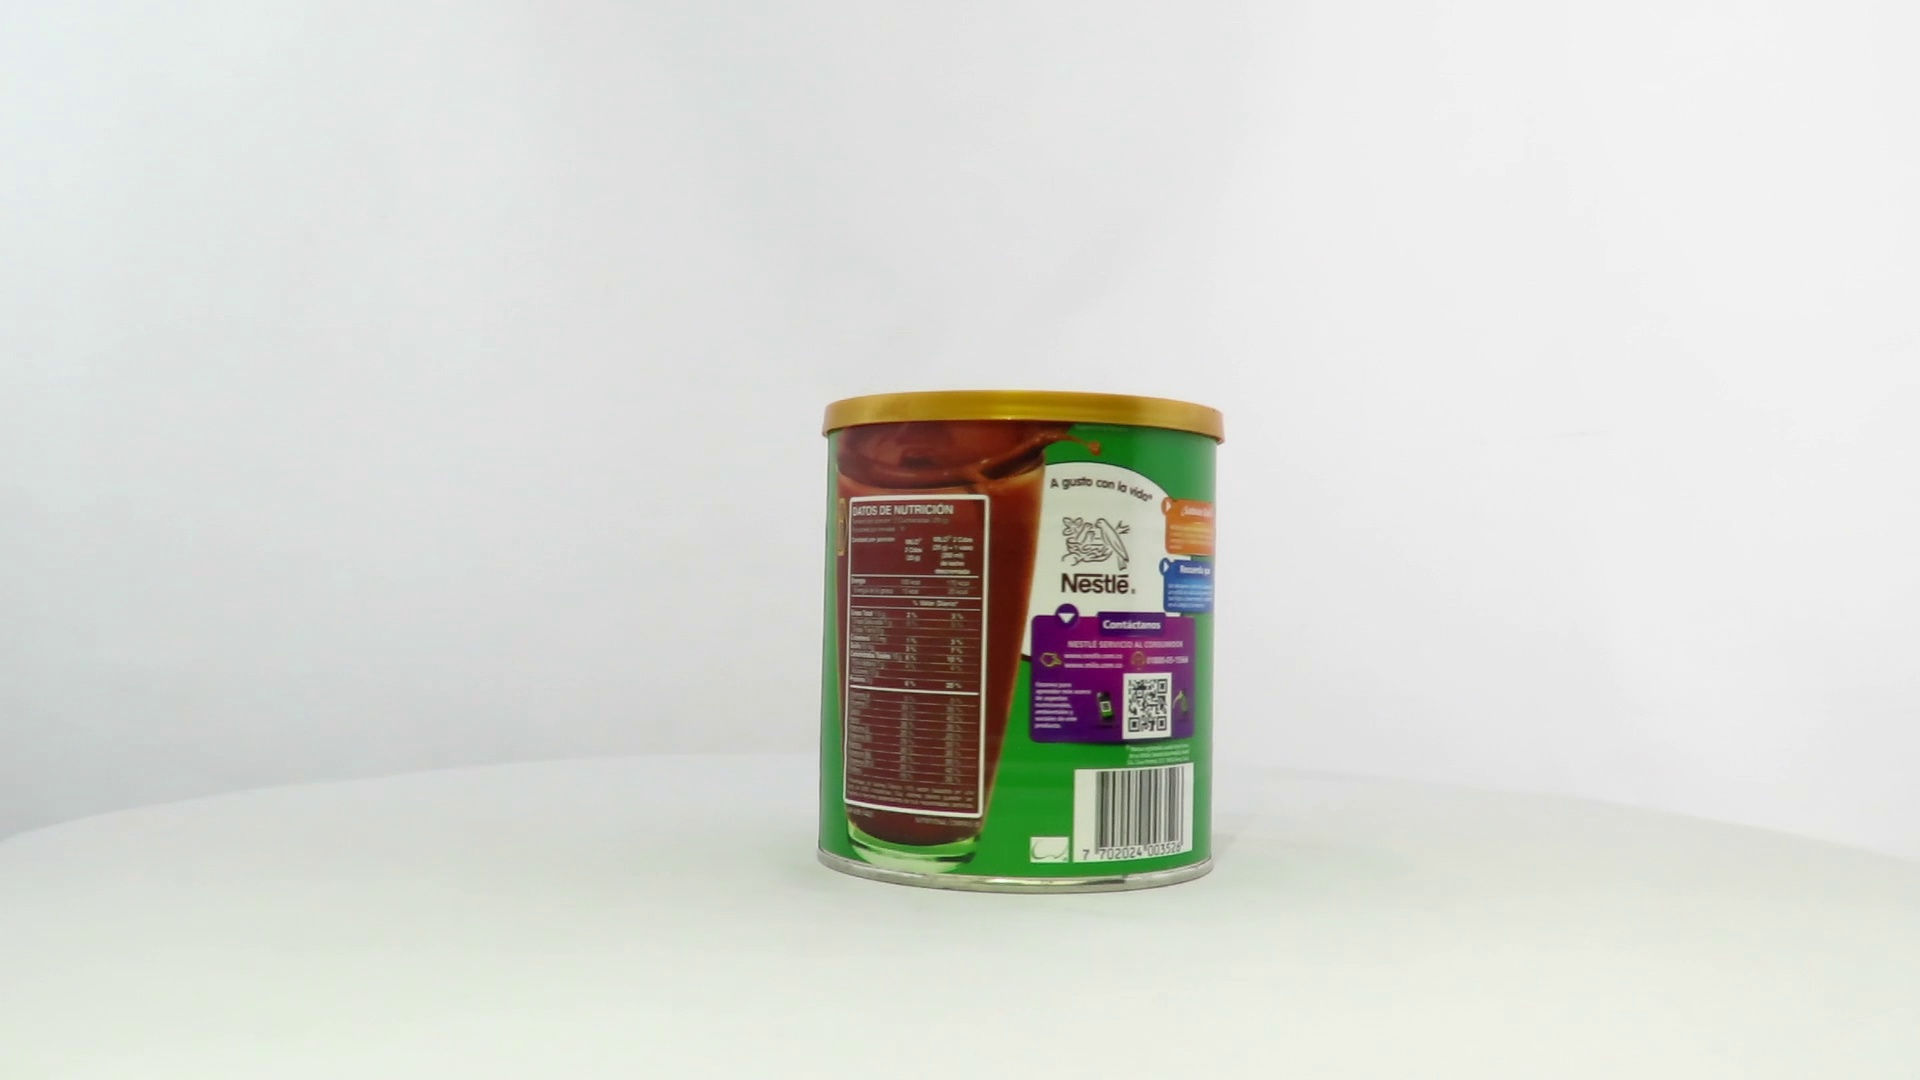COL0170203LAT40000: (811, 384, 1232, 901)
